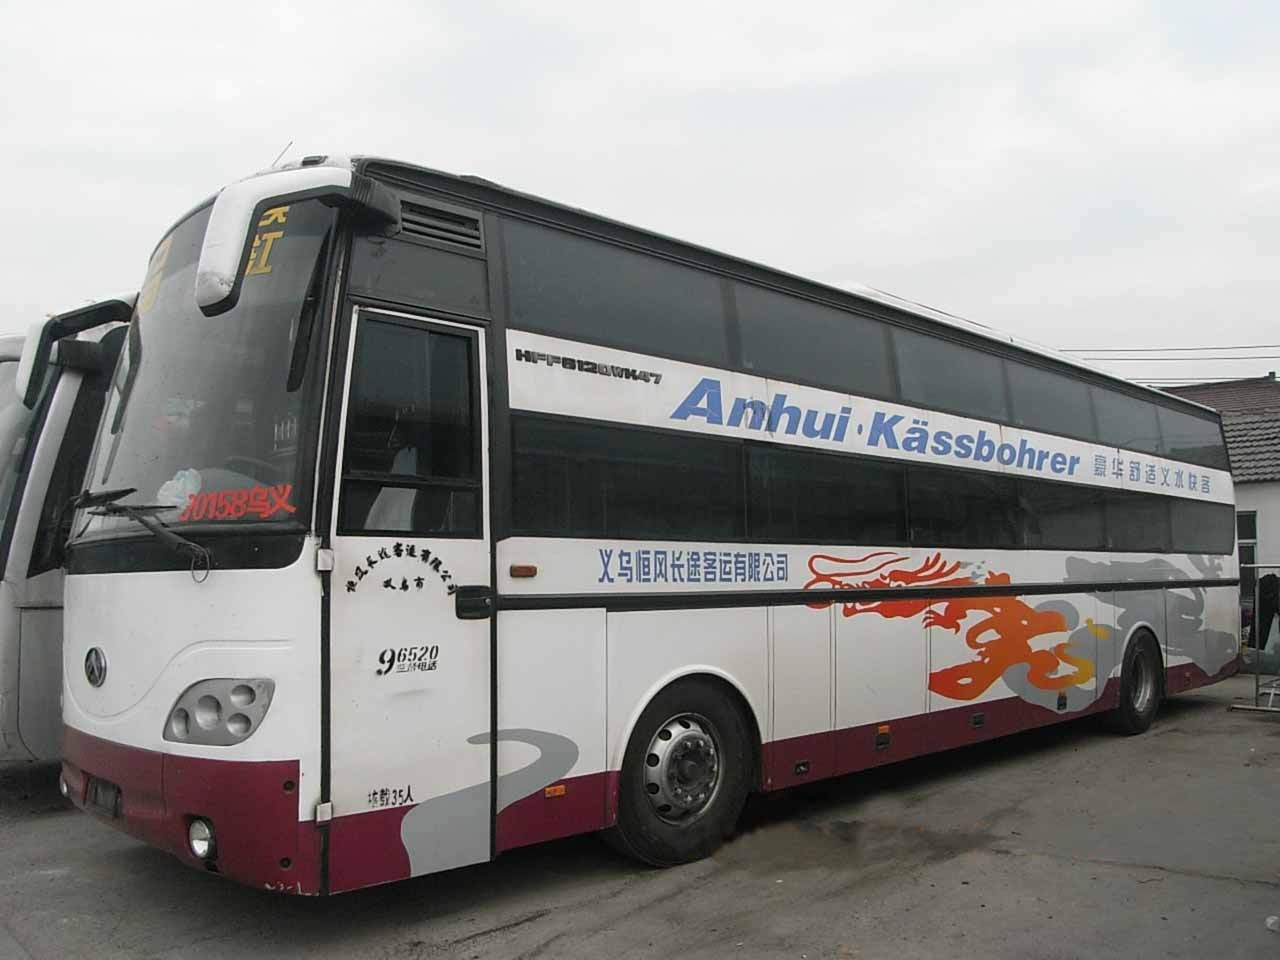bus: (54, 140, 1258, 932)
